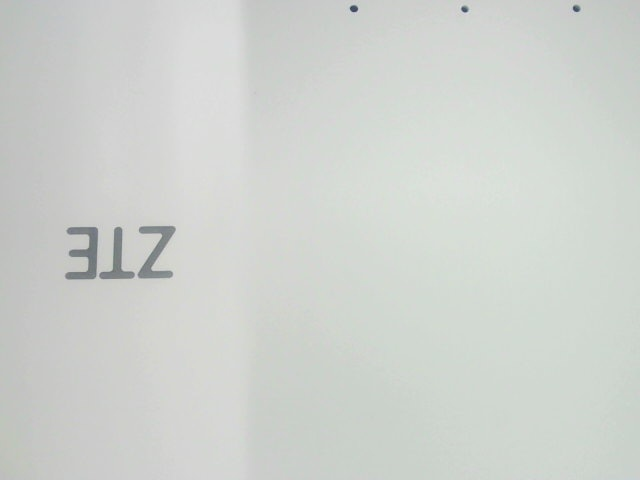AN_ZTE: (57, 219, 176, 283)
